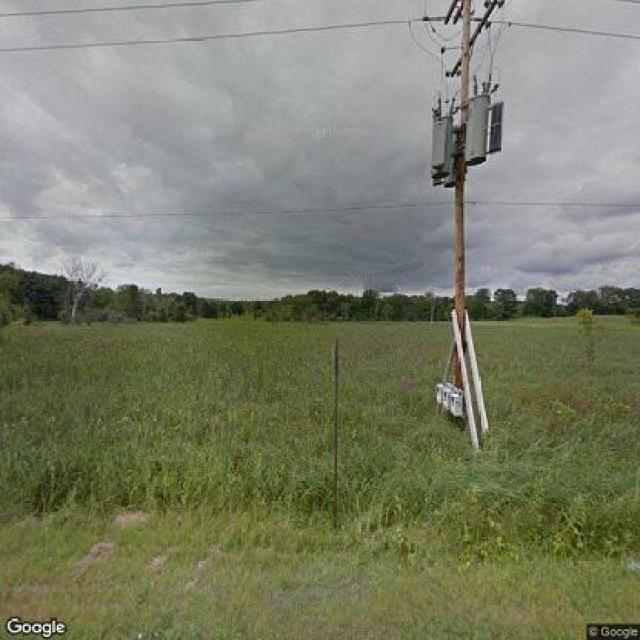pole: (415, 0, 514, 434)
